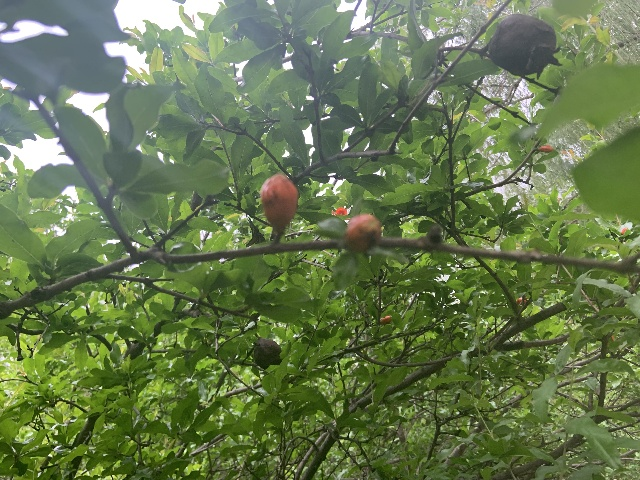bud: (260, 173, 298, 229), (344, 214, 381, 251), (537, 145, 553, 153), (380, 315, 392, 324), (516, 297, 526, 304), (621, 227, 628, 234)
flower: (331, 207, 347, 215)
